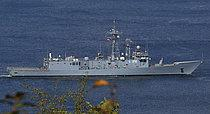MIL_Ship: (5, 24, 203, 76)
